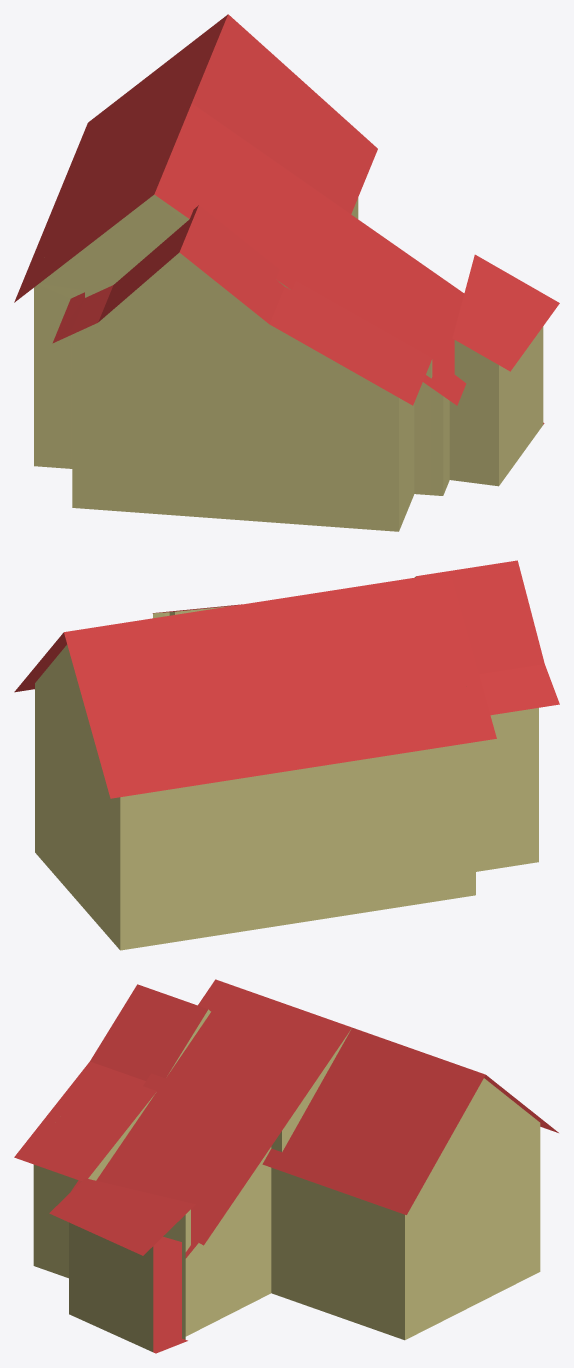
3 views of the same model, one above another, from view 1: azimuth 30°, elevation 25°; view 2: azimuth 150°, elevation 25°; view 3: azimuth 270°, elevation 25° (orthographic). The views are drawn at different scales.
Bounding box in the file's own units: 23.55 × 29.16 × 13.79.
